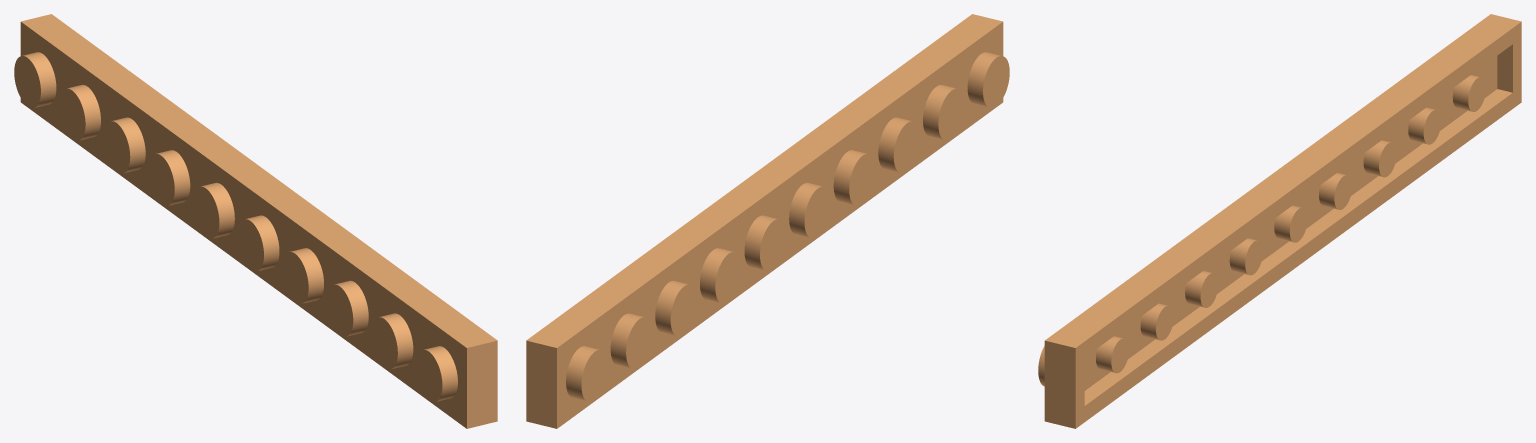
Rendered from plate1*10.obj.
The picture shows the model from 3 angles, left to right: view 1: azimuth 30°, elevation 25°; view 2: azimuth 150°, elevation 25°; view 3: azimuth 330°, elevation 25°; orthographic projection.
Bounding box in the file's own units: 12 × 20 × 200.
